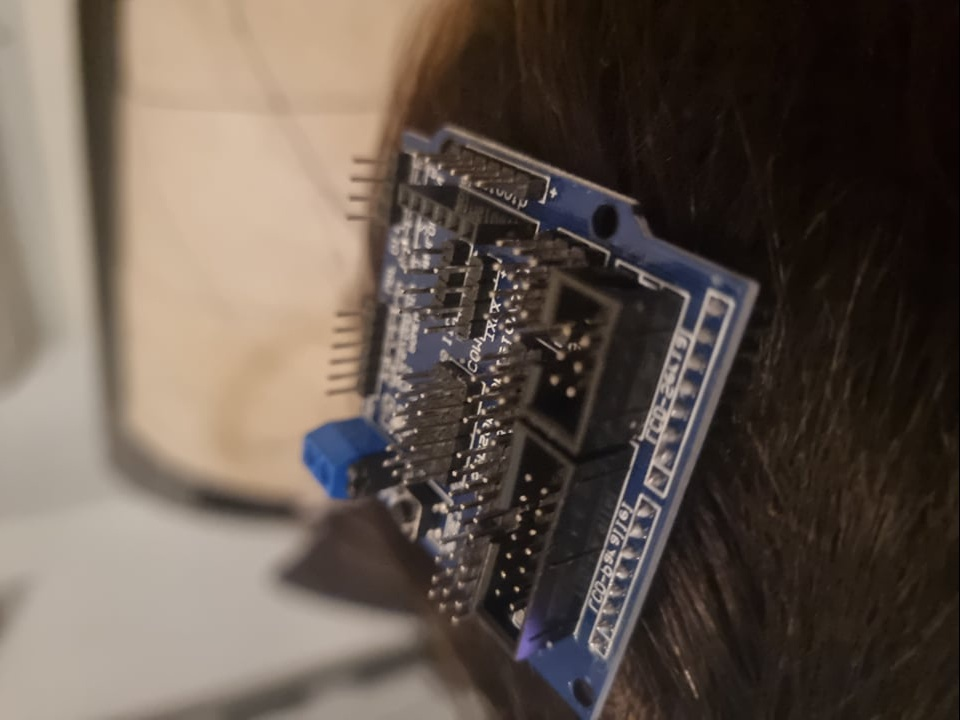5V EXPANSION: (303, 120, 763, 720)
